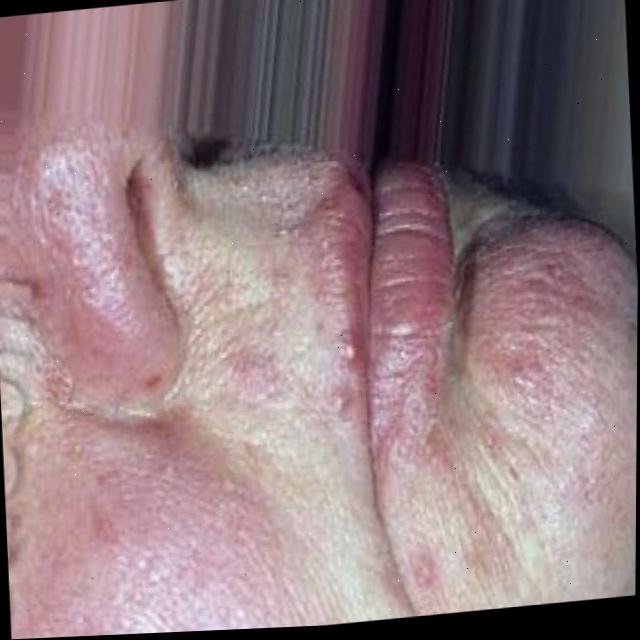Rosacea: (7, 402, 334, 639), (458, 185, 633, 535), (10, 125, 172, 403)
